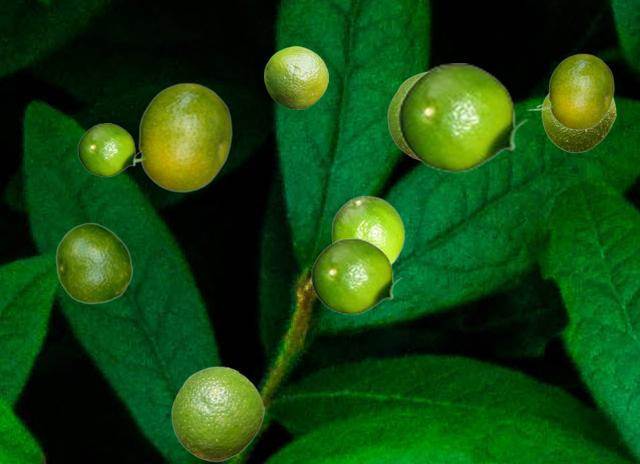calamansi: (397, 63, 528, 172), (136, 82, 231, 191), (171, 366, 263, 461), (310, 238, 402, 314), (526, 53, 613, 129), (55, 222, 132, 303), (331, 195, 404, 263), (541, 94, 615, 152), (264, 46, 327, 108), (77, 123, 141, 176), (387, 71, 424, 160)
